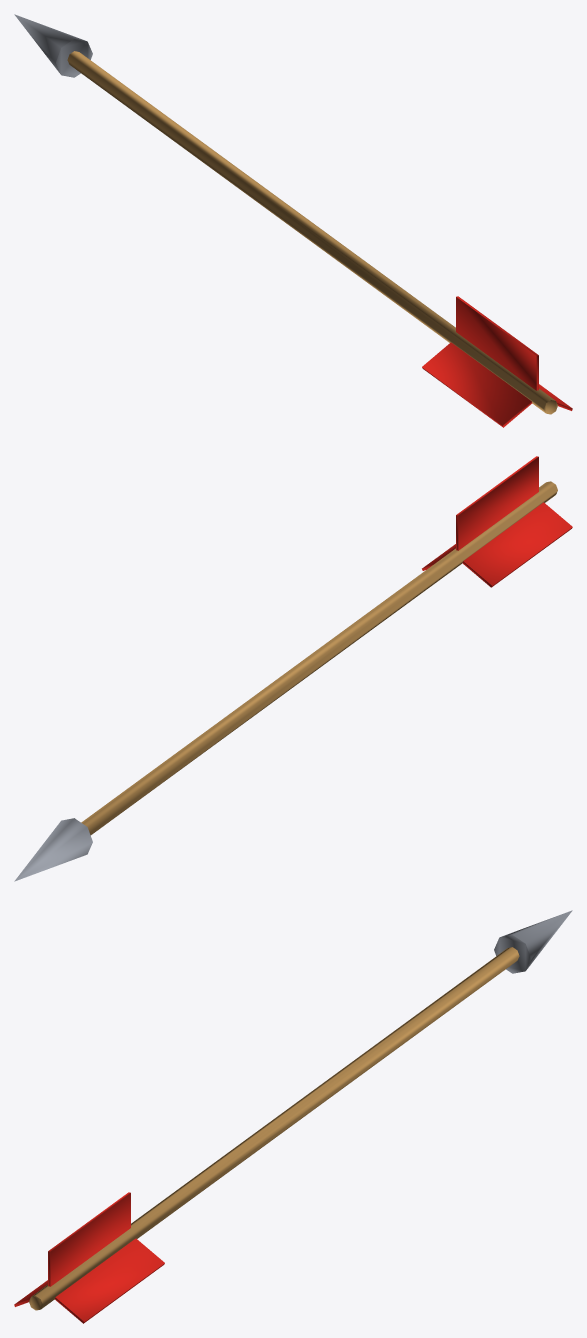
File: arrow.glb
3 renders of one model, top to bottom at view 1: azimuth 30°, elevation 25°; view 2: azimuth 150°, elevation 25°; view 3: azimuth 330°, elevation 25°, orthographic.
Parts seen in each view (by area): view 1: Arrow; view 2: Arrow; view 3: Arrow.
Part boxes in pixels (x1,y1,x2,y2): Arrow: (14, 14, 572, 427); Arrow: (14, 456, 572, 881); Arrow: (14, 910, 572, 1323).
Size of the model in its own units: 0.0608 by 0.0526 by 0.8.
